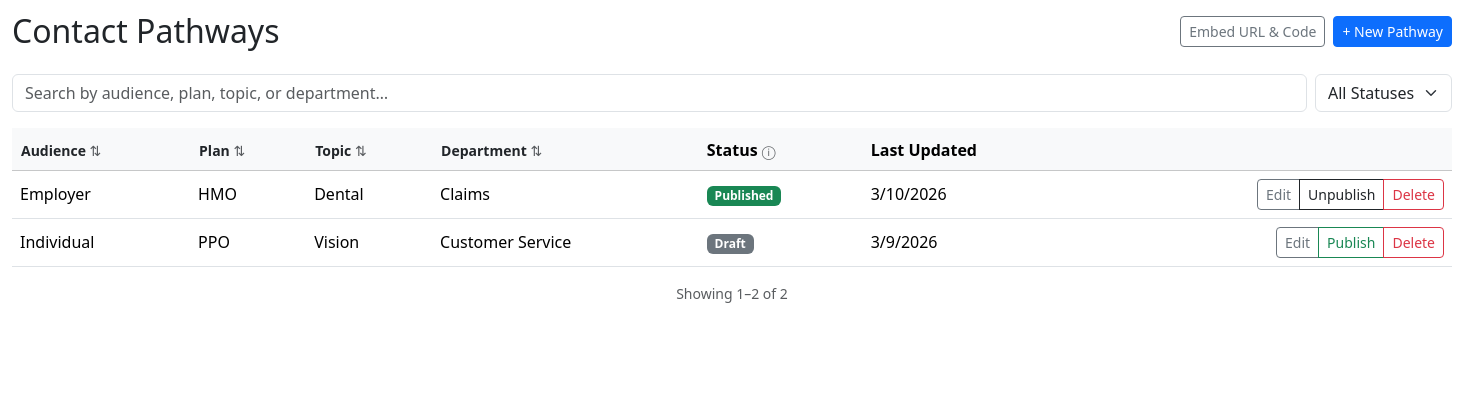
PathwaysListPage › Actions — admin only › shows action error when publish fails
Click the button "Publish": (1351, 242) [1318, 226, 1384, 258]
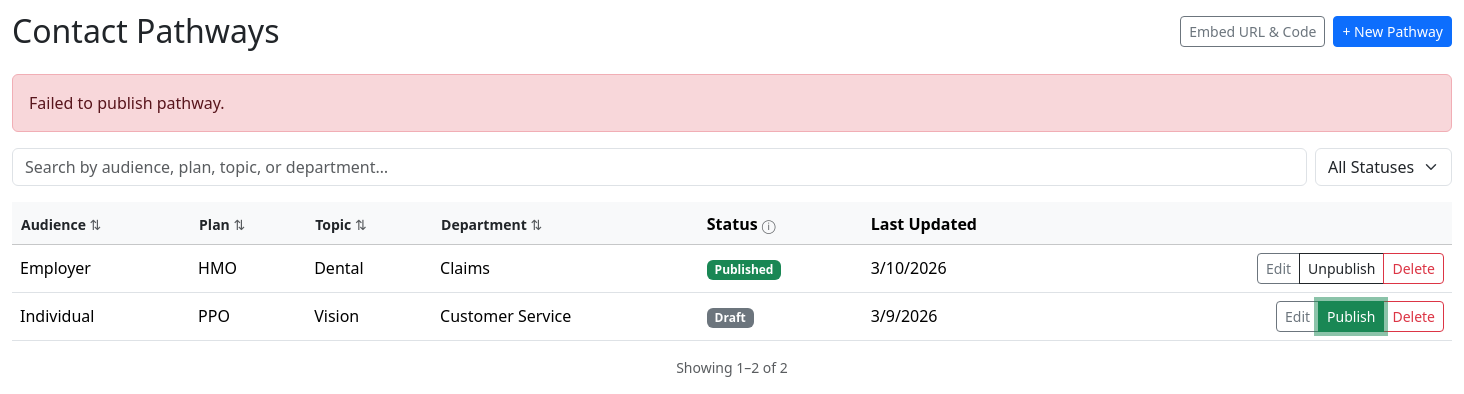
Expected: the text "Failed to publish pathway." is shown, [12, 74, 1452, 132]
